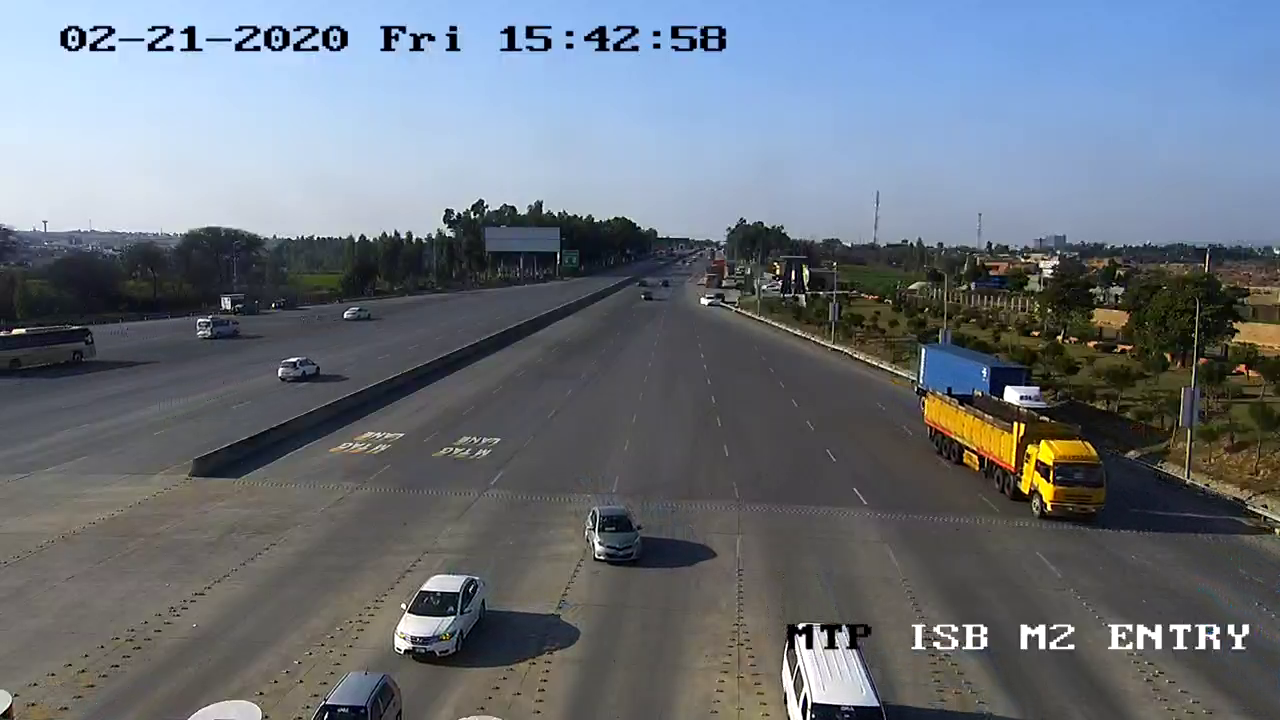f1: (389, 571, 491, 664), (574, 497, 649, 566)
f6: (917, 381, 1117, 530)
